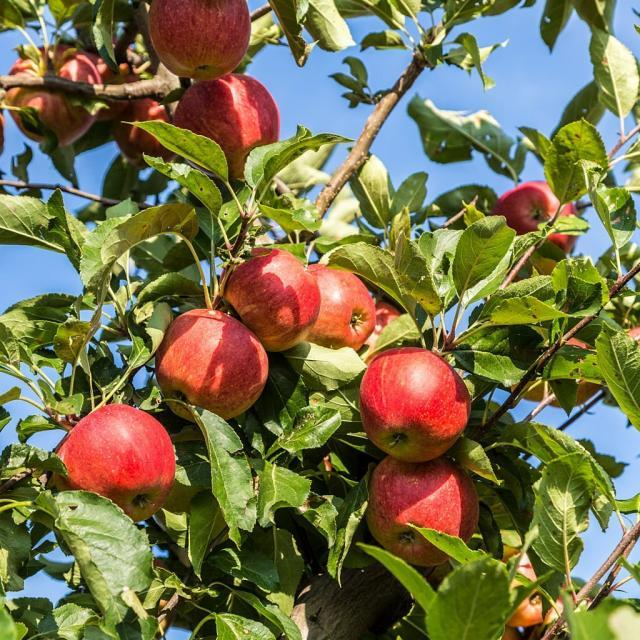Red Apple: (52, 399, 175, 520), (367, 453, 484, 555), (366, 356, 474, 455), (182, 78, 283, 170), (229, 243, 317, 345), (10, 53, 101, 143), (167, 320, 259, 409), (153, 1, 262, 74), (494, 176, 577, 256), (299, 264, 375, 345), (546, 340, 609, 410), (120, 79, 178, 155), (89, 38, 142, 119), (510, 552, 569, 619), (369, 301, 407, 350), (500, 624, 524, 640)
